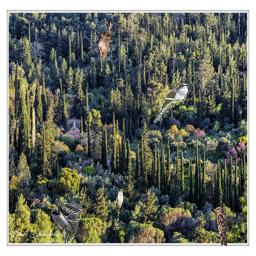Cuckoo: (153, 83, 189, 123), (116, 189, 123, 229)
Sparrow: (98, 19, 113, 59), (214, 206, 227, 246)
Swallow: (51, 203, 82, 243)
